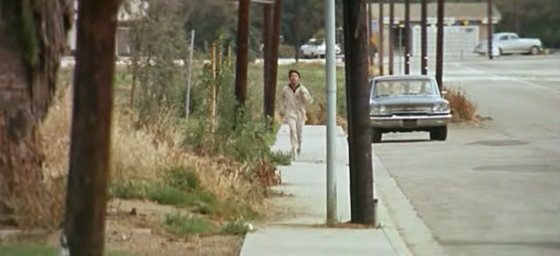els: (1, 1, 560, 256)
face: (290, 72, 299, 84)
person: (274, 70, 315, 162)
